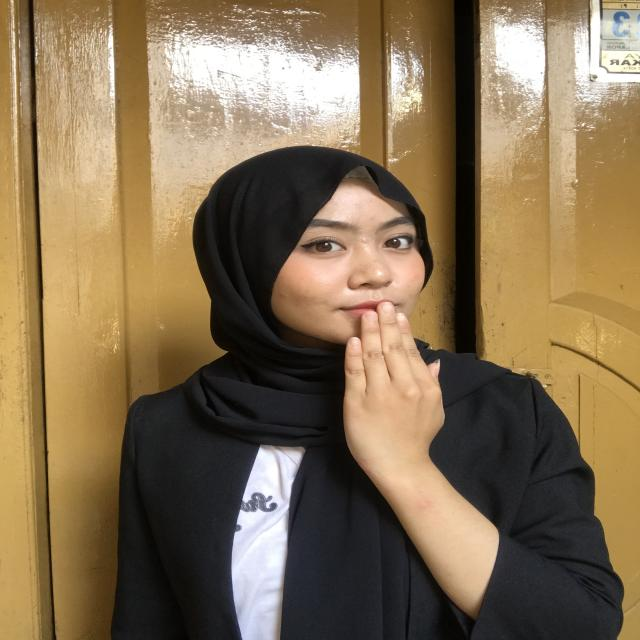ganteng: (319, 299, 462, 488)
